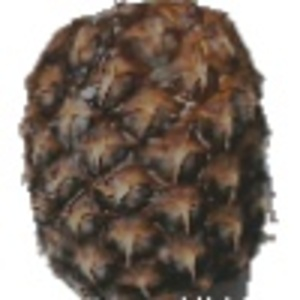abacaxi: (16, 4, 277, 295)
